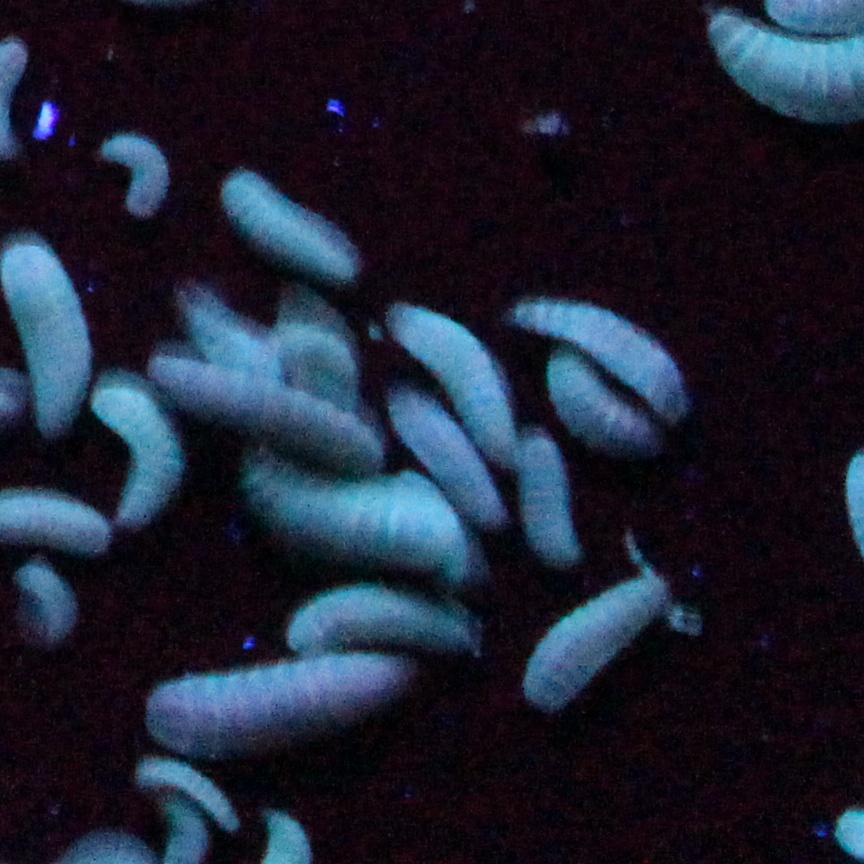larve: (158, 652, 398, 744), (174, 352, 390, 452), (390, 296, 518, 452), (254, 476, 462, 564), (522, 304, 694, 408), (522, 572, 654, 704), (218, 160, 354, 276), (298, 596, 490, 656), (10, 268, 82, 412), (110, 392, 182, 512), (550, 364, 646, 452), (22, 564, 94, 652), (114, 144, 178, 220)
